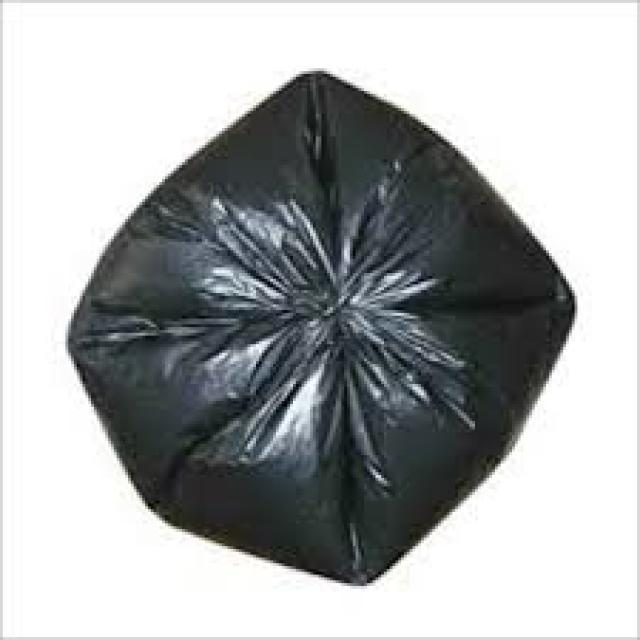Trashbag: (59, 67, 574, 594)
